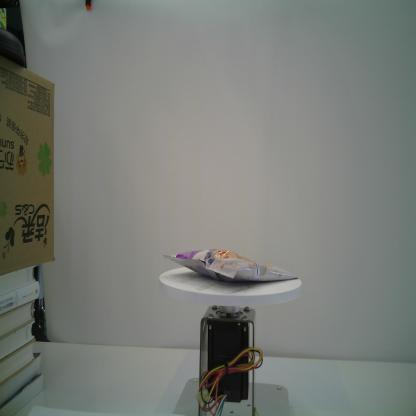Instant Drink: (163, 249, 299, 283)
